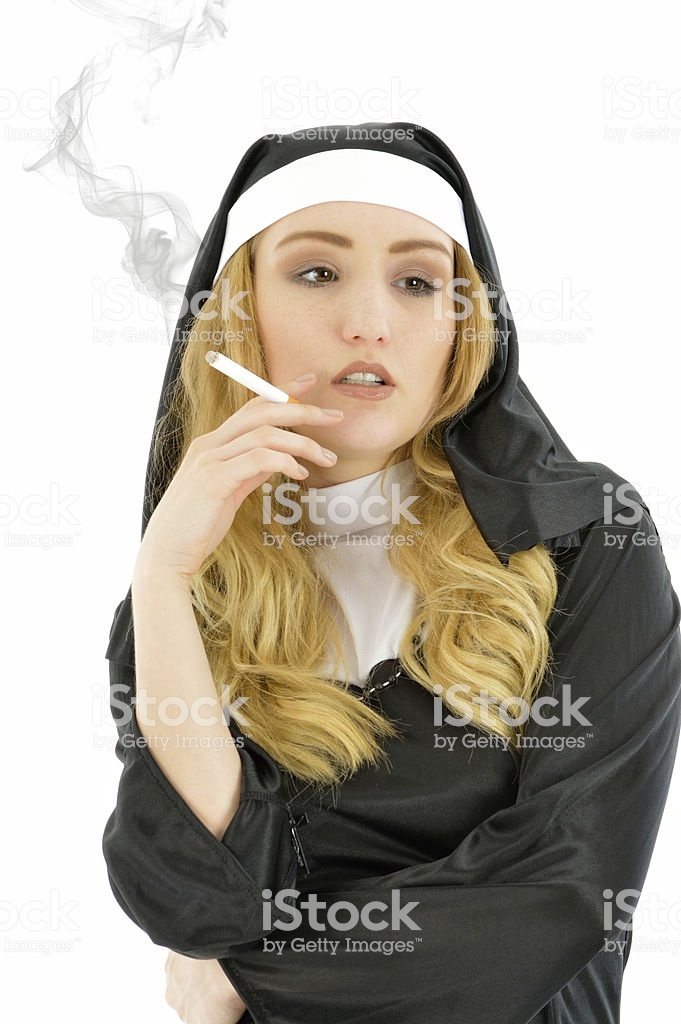sigaretta: (204, 342, 297, 413)
